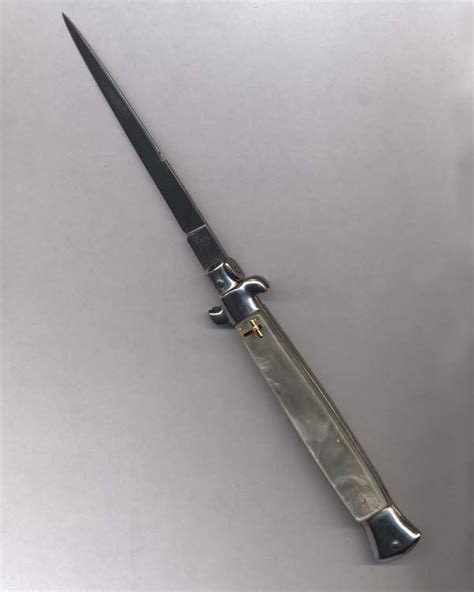knife: (61, 11, 424, 562)
